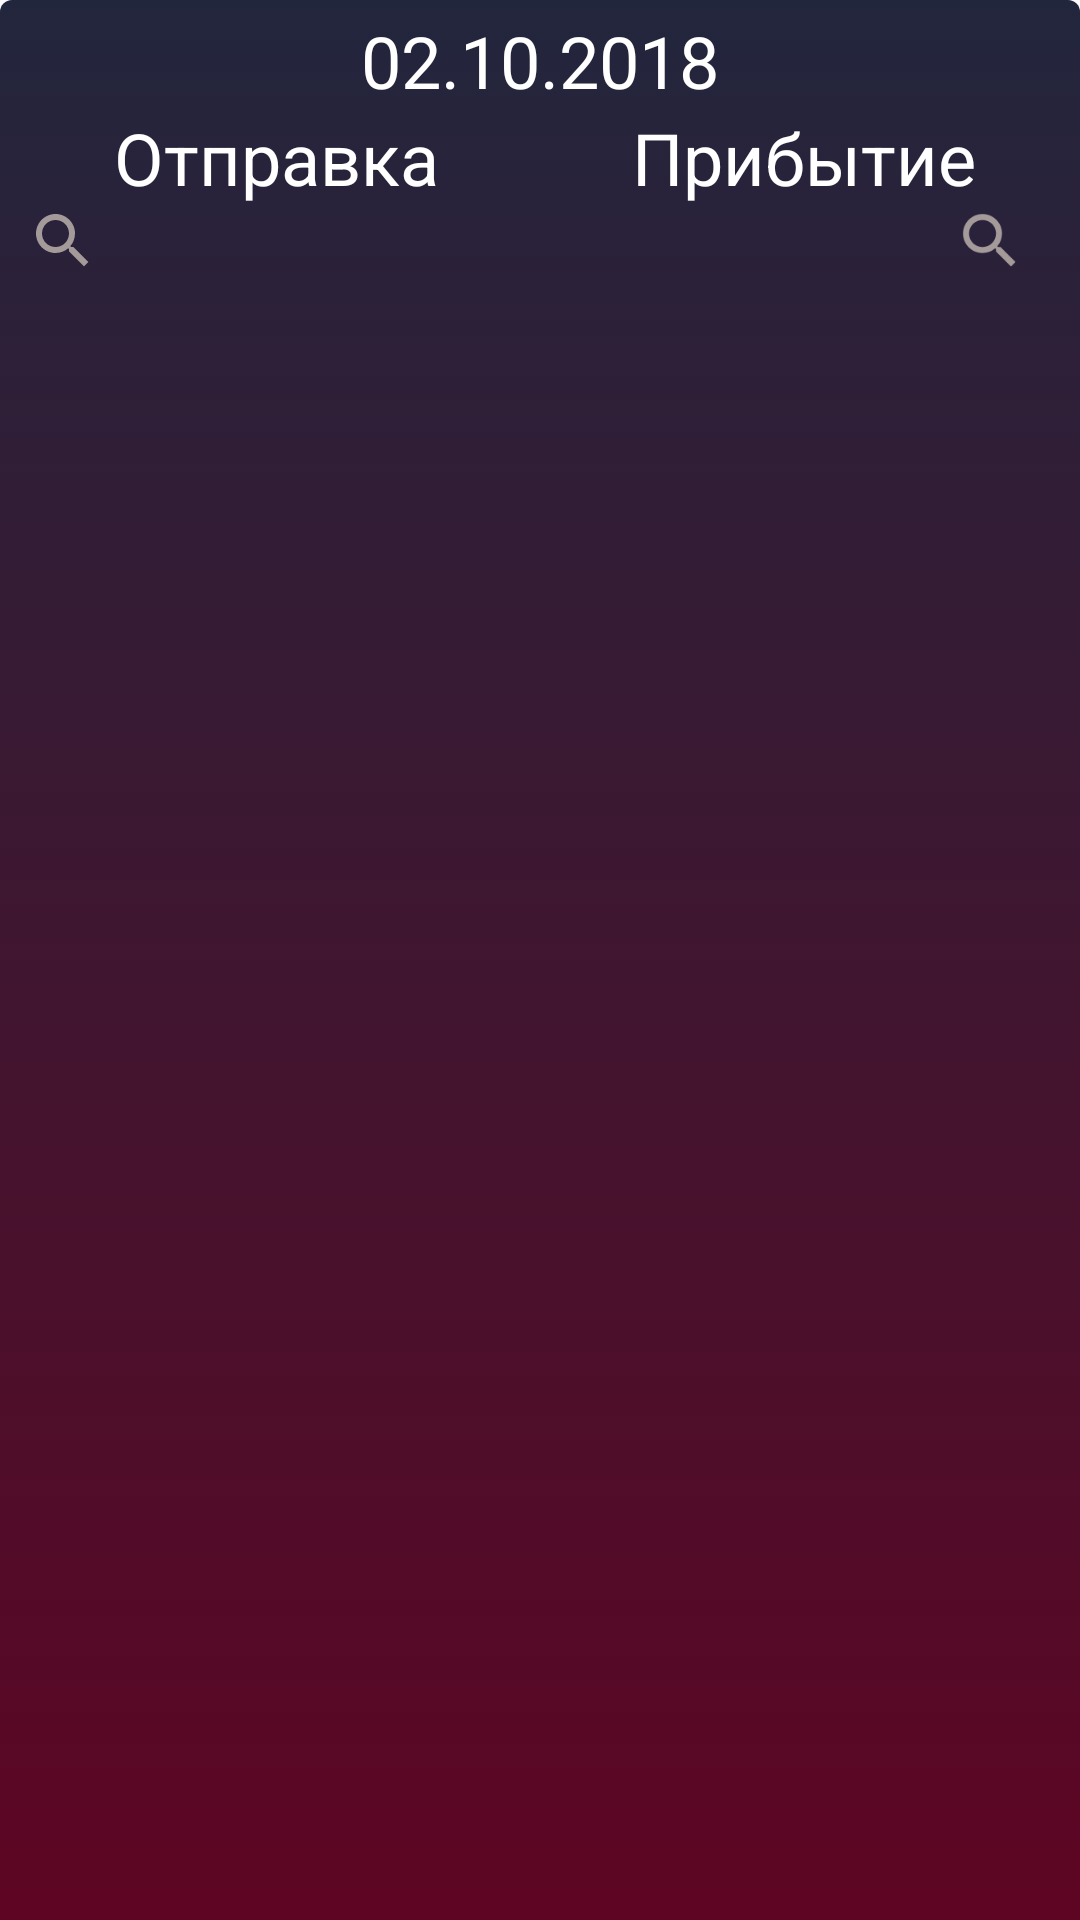

Named icons in this screenshot (1080w x 1920h) and their bounding boxes, Rect(x1, y1, x2, y2):
search: Rect(36, 214, 88, 266), Rect(963, 214, 1015, 266)
